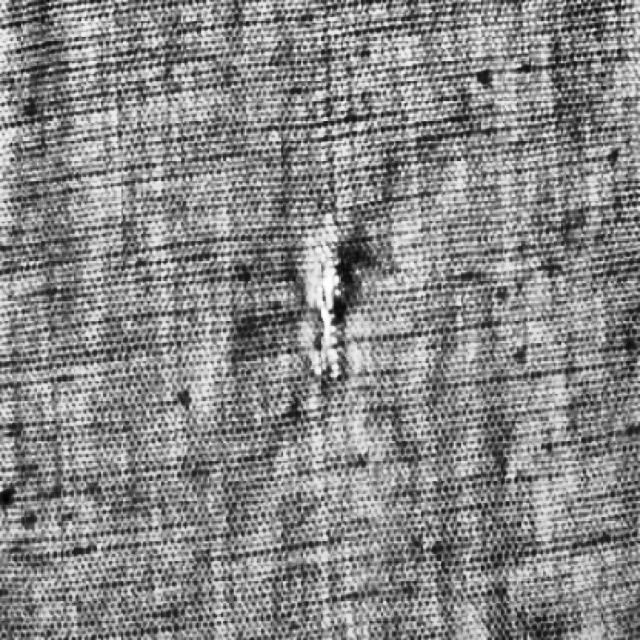hole: (290, 216, 368, 394)
